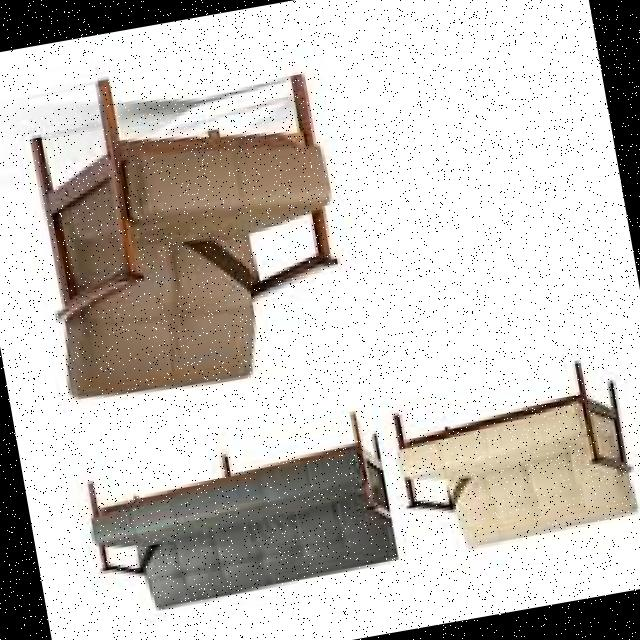Sofa: (59, 400, 408, 630), (373, 347, 640, 565)
